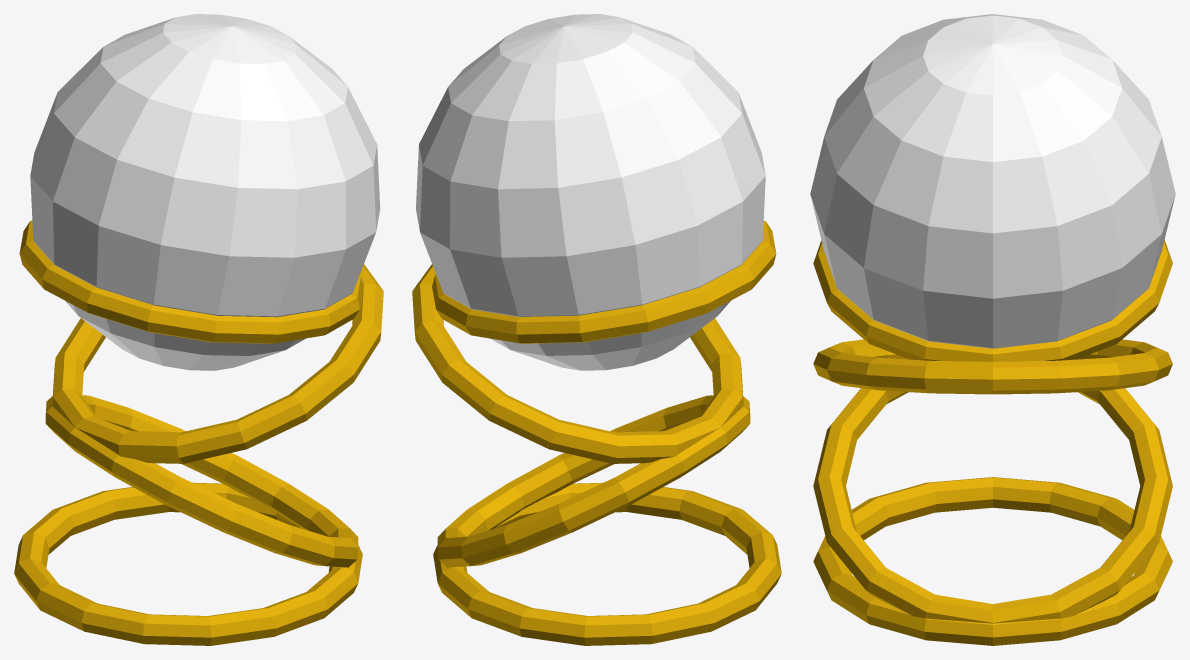
Rendered from BedroomLamp 1.fbx.
3 renders of one model, left to right at view 1: azimuth 30°, elevation 25°; view 2: azimuth 150°, elevation 25°; view 3: azimuth 270°, elevation 25°, orthographic. The views are drawn at different scales.
Parts seen in each view (by area): view 1: Sphere; view 2: Sphere; view 3: Sphere.
Part boxes in pixels (x1=…): Sphere: x1=14, y1=14, x2=383, y2=645; Sphere: x1=412, y1=14, x2=781, y2=645; Sphere: x1=810, y1=14, x2=1175, y2=645.
Bounding box in the file's own units: 23.46 × 37.37 × 22.35.
